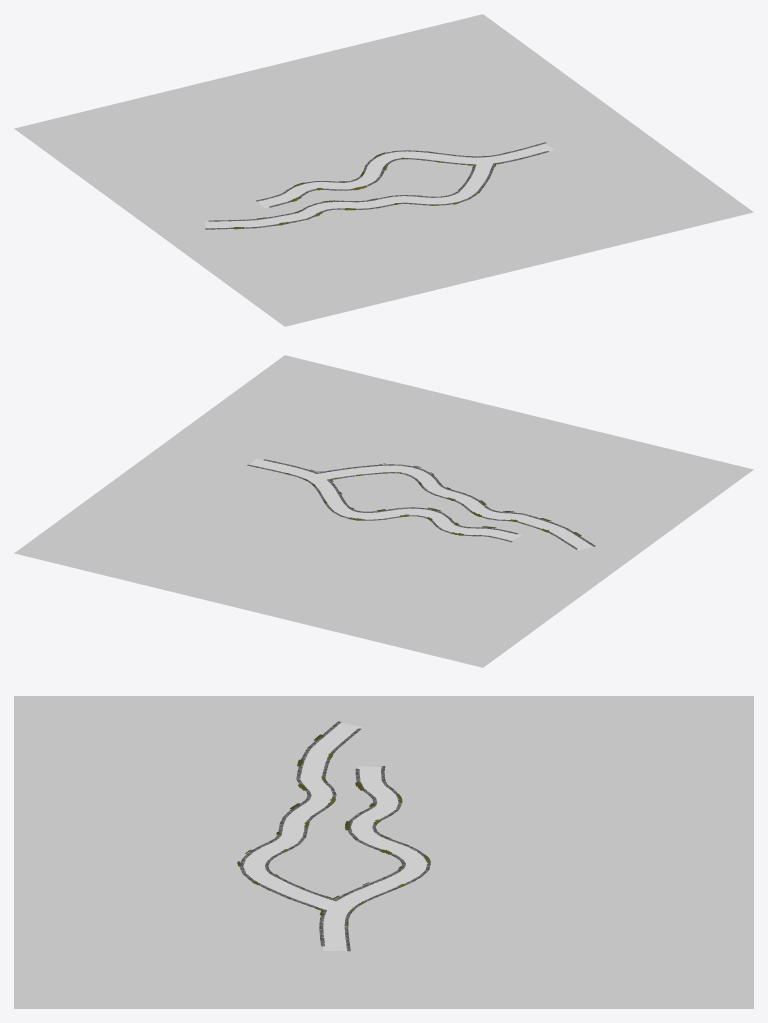
The model's file is Level 2.fbx.
The picture shows the model from 3 angles, top to bottom: view 1: azimuth 30°, elevation 25°; view 2: azimuth 150°, elevation 25°; view 3: azimuth 270°, elevation 25°; orthographic projection. The views are drawn at different scales.
Parts seen in each view (by area): view 1: Ground Test 3, Dirt_Ground 1, Dirt_Ground 1.001, Stone 1.005, Stone 1.001, Stone 1.002; view 2: Ground Test 3, Dirt_Ground 1, Dirt_Ground 1.001, Stone 1.001, Stone 1; view 3: Ground Test 3, Dirt_Ground 1, Dirt_Ground 1.001, Stone 1.001, Stone 1, Stone 1.005, Stone 1.002.
Part boxes in pixels (x1=…): Ground Test 3: x1=14, y1=14, x2=753, y2=326; Dirt_Ground 1: x1=258, y1=143, x2=554, y2=208; Dirt_Ground 1.001: x1=205, y1=164, x2=492, y2=228; Stone 1.005: x1=256, y1=142, x2=546, y2=201; Stone 1.001: x1=205, y1=164, x2=494, y2=229; Stone 1.002: x1=208, y1=165, x2=475, y2=221; Ground Test 3: x1=14, y1=355, x2=753, y2=667; Dirt_Ground 1: x1=250, y1=458, x2=521, y2=540; Dirt_Ground 1.001: x1=318, y1=465, x2=592, y2=550; Stone 1.001: x1=318, y1=464, x2=595, y2=546; Stone 1: x1=263, y1=459, x2=518, y2=534; Ground Test 3: x1=14, y1=696, x2=753, y2=1008; Dirt_Ground 1: x1=322, y1=766, x2=427, y2=950; Dirt_Ground 1.001: x1=242, y1=723, x2=362, y2=909; Stone 1.001: x1=239, y1=721, x2=341, y2=909; Stone 1: x1=319, y1=768, x2=405, y2=946; Stone 1.005: x1=344, y1=766, x2=430, y2=951; Stone 1.002: x1=265, y1=728, x2=360, y2=900.
Bounding box in the file's own units: 15000 × 53.02 × 15000.
